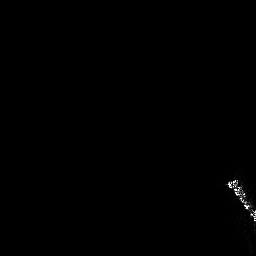ship: (222, 173, 256, 230)
